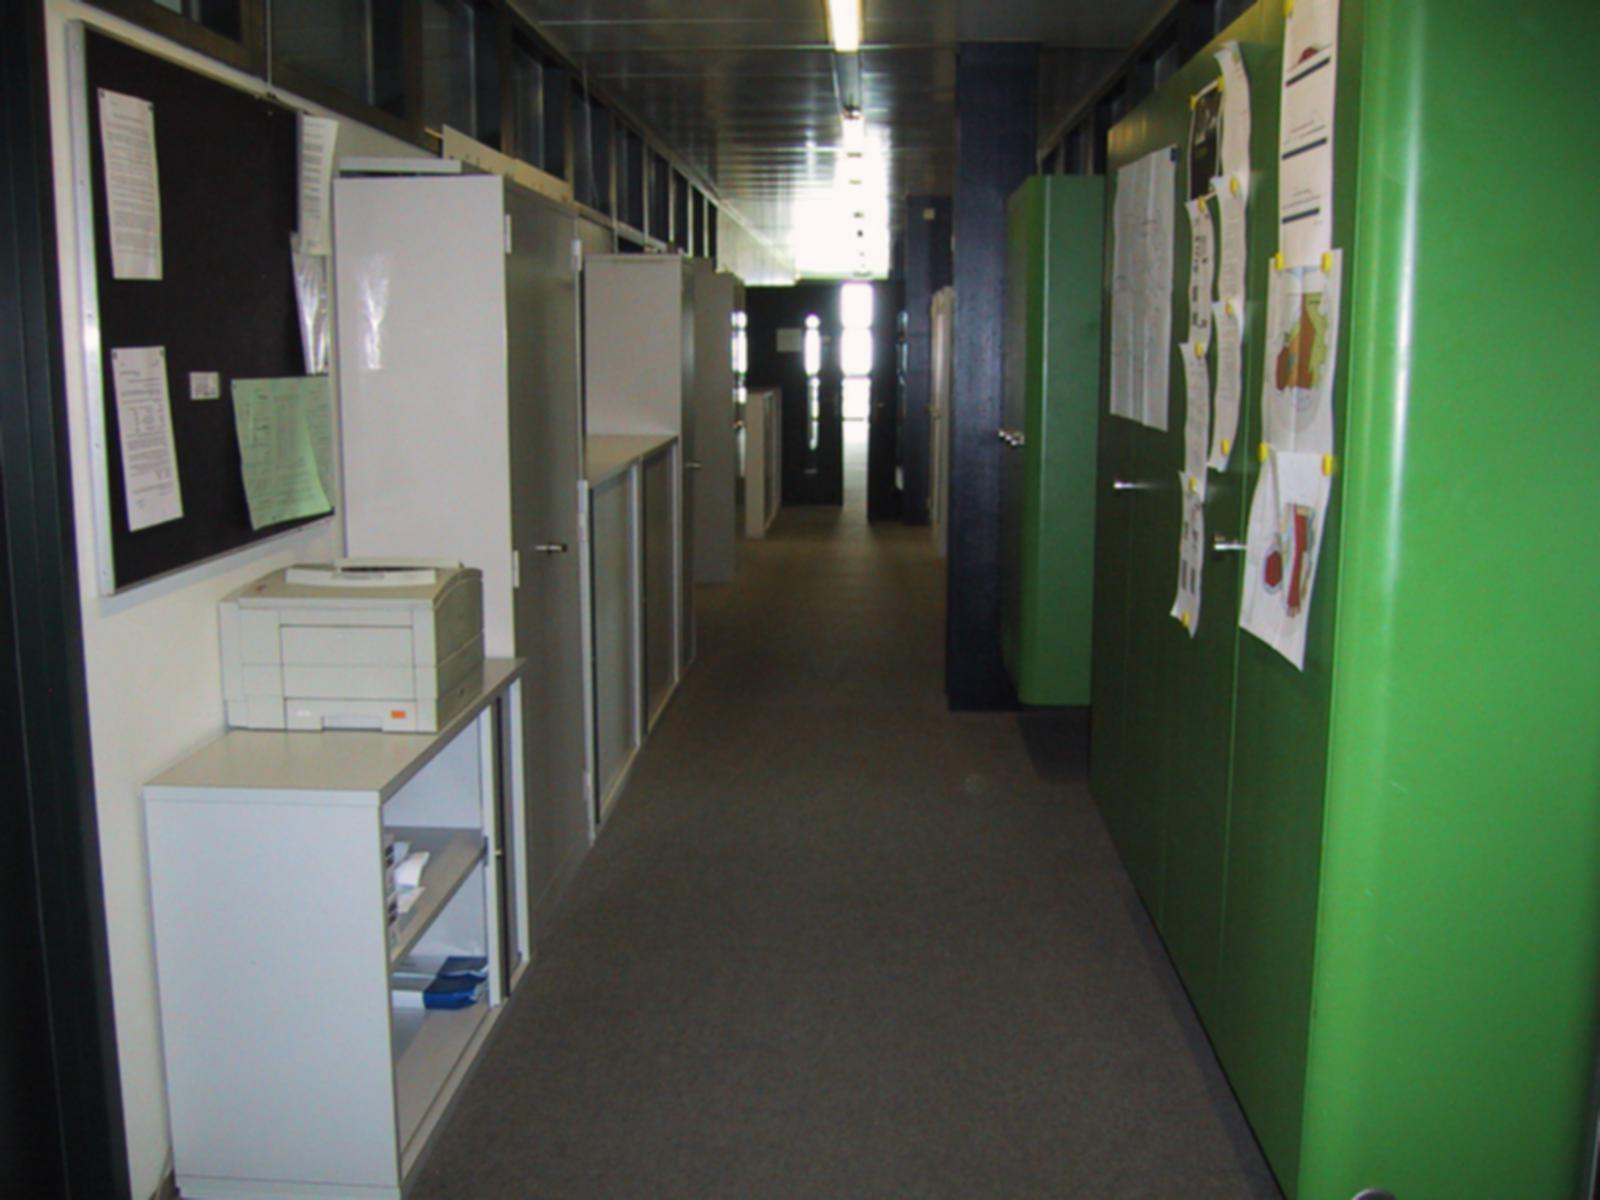Armario: (1174, 10, 1587, 1197), (508, 196, 586, 934), (1101, 125, 1165, 923), (997, 196, 1081, 716), (666, 259, 701, 690)
